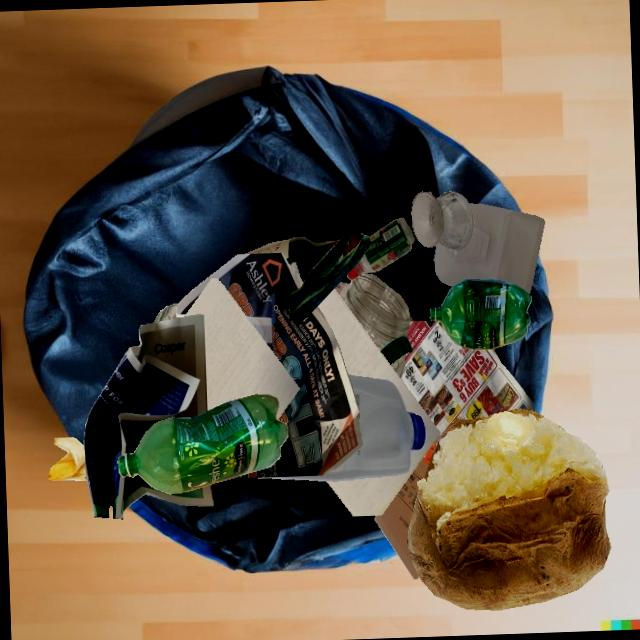biowaste: (407, 408, 610, 609), (287, 234, 370, 325), (47, 437, 86, 480), (333, 281, 350, 295)
cardboard: (374, 435, 441, 579)
glass: (339, 272, 410, 351), (244, 237, 338, 282), (411, 191, 474, 250), (153, 303, 179, 322)
paper: (175, 252, 362, 478), (316, 288, 440, 516), (83, 314, 213, 518), (184, 278, 299, 419), (400, 320, 535, 437)
plastic: (256, 374, 426, 481), (117, 394, 288, 493), (433, 203, 544, 294), (430, 279, 531, 349), (346, 217, 414, 280), (380, 335, 412, 364)
